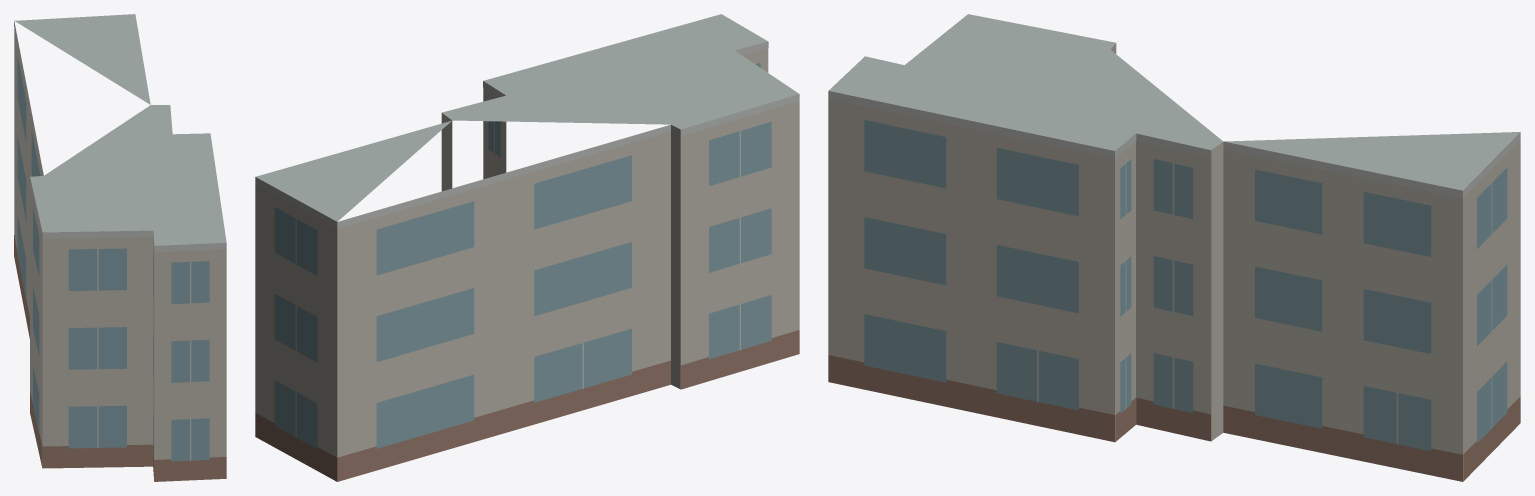
The model's file is survey-upis-32779537.glb.
3 renders of one model, left to right at view 1: azimuth 30°, elevation 25°; view 2: azimuth 150°, elevation 25°; view 3: azimuth 270°, elevation 25°, orthographic. The views are drawn at different scales.
Parts seen in each view (by area): view 1: survey-upis-32779537.tmp; view 2: survey-upis-32779537.tmp; view 3: survey-upis-32779537.tmp.
Boxes of the visible parts, <box> form: survey-upis-32779537.tmp: <box>14,14,226,481</box>; survey-upis-32779537.tmp: <box>255,14,799,481</box>; survey-upis-32779537.tmp: <box>828,14,1520,481</box>.
Size of the model in its own units: 11.92 by 9.15 by 19.72.
